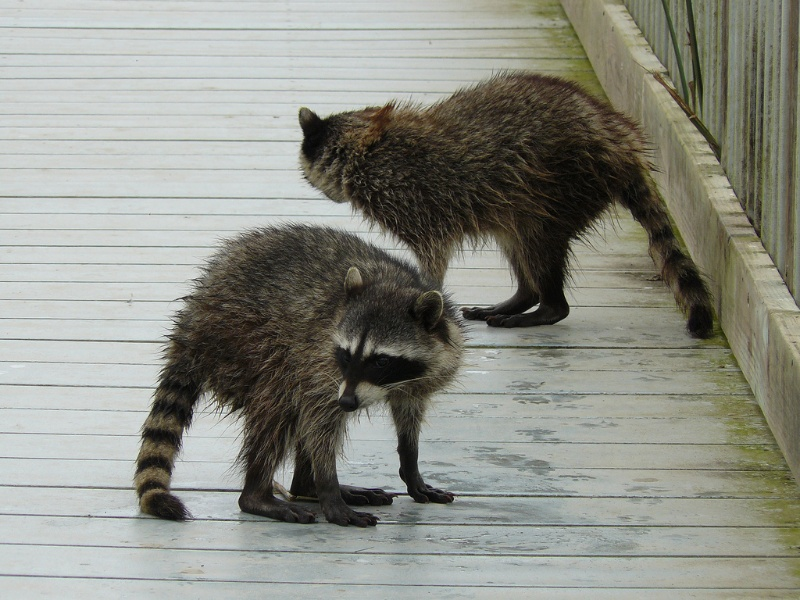raccoon: (294, 68, 721, 340), (134, 223, 466, 529)
